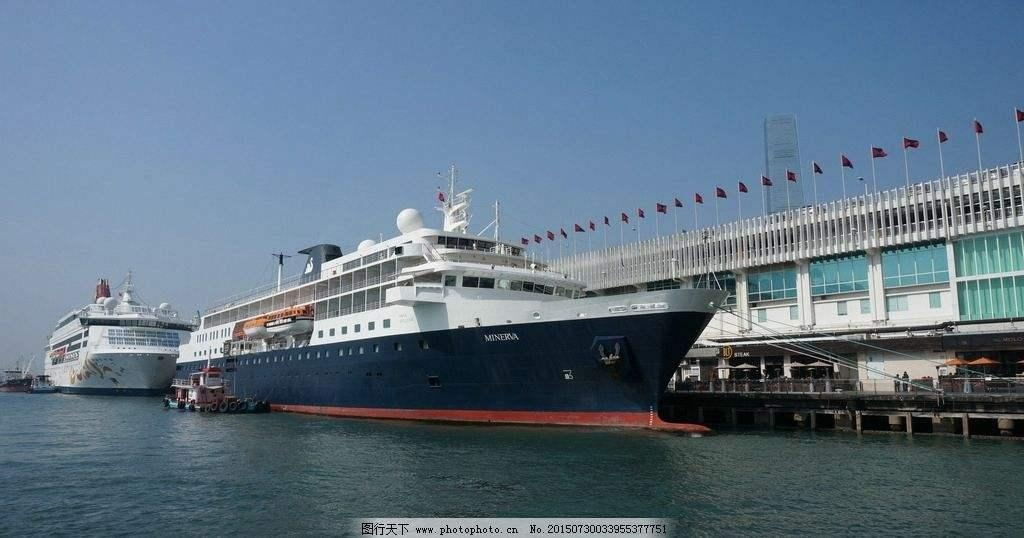youlun: (162, 211, 746, 426), (42, 274, 177, 395)
